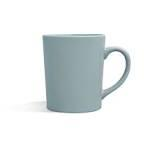cup: (42, 34, 130, 112)
